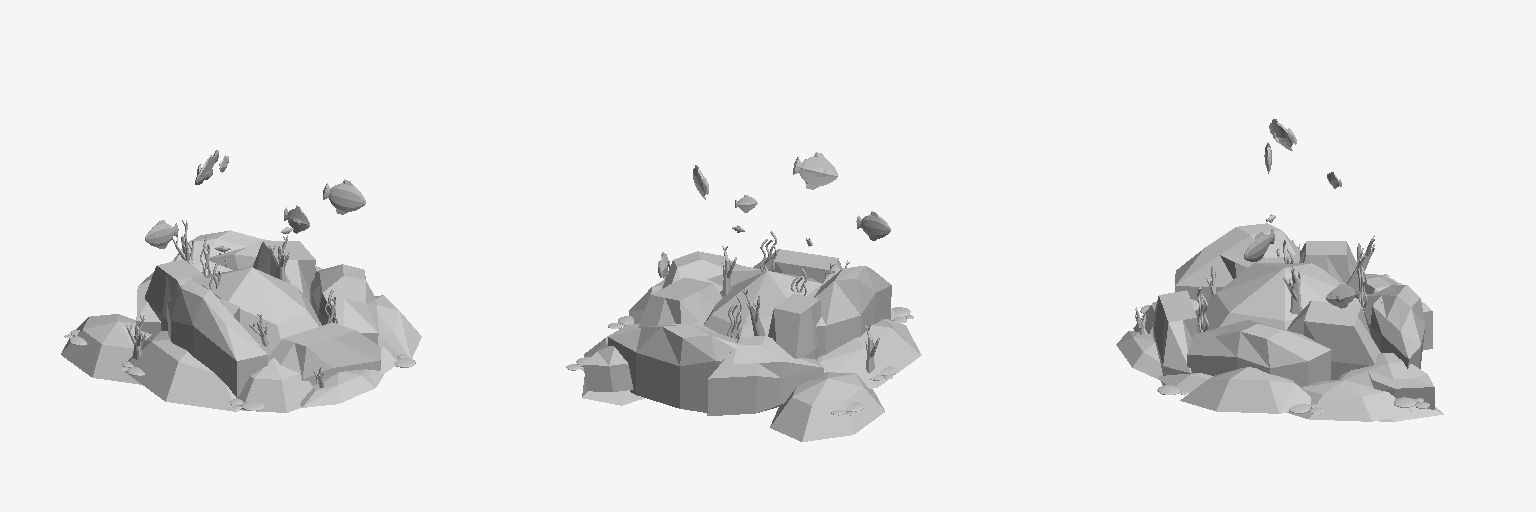
File: pecera2.obj
3 renders of one model, left to right at view 1: azimuth 30°, elevation 25°; view 2: azimuth 150°, elevation 25°; view 3: azimuth 270°, elevation 25°, orthographic.
Visible parts, largest first — view 1: Underwater_Scene1:sphere[number redacted] group1; view 2: Underwater_Scene1:sphere[number redacted] group1; view 3: Underwater_Scene1:sphere[number redacted] group1.
Boxes of the visible parts, x1=… form: Underwater_Scene1:sphere[number redacted] group1: x1=61, y1=150, x2=421, y2=412; Underwater_Scene1:sphere[number redacted] group1: x1=566, y1=152, x2=921, y2=441; Underwater_Scene1:sphere[number redacted] group1: x1=1116, y1=119, x2=1443, y2=421.
Bounding box in the file's own units: 1.26 × 0.976 × 1.27.